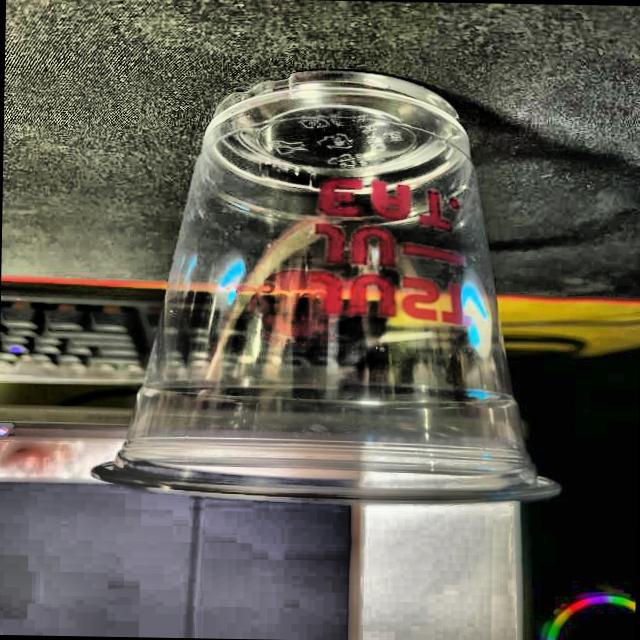plastic cup: (81, 61, 578, 508)
